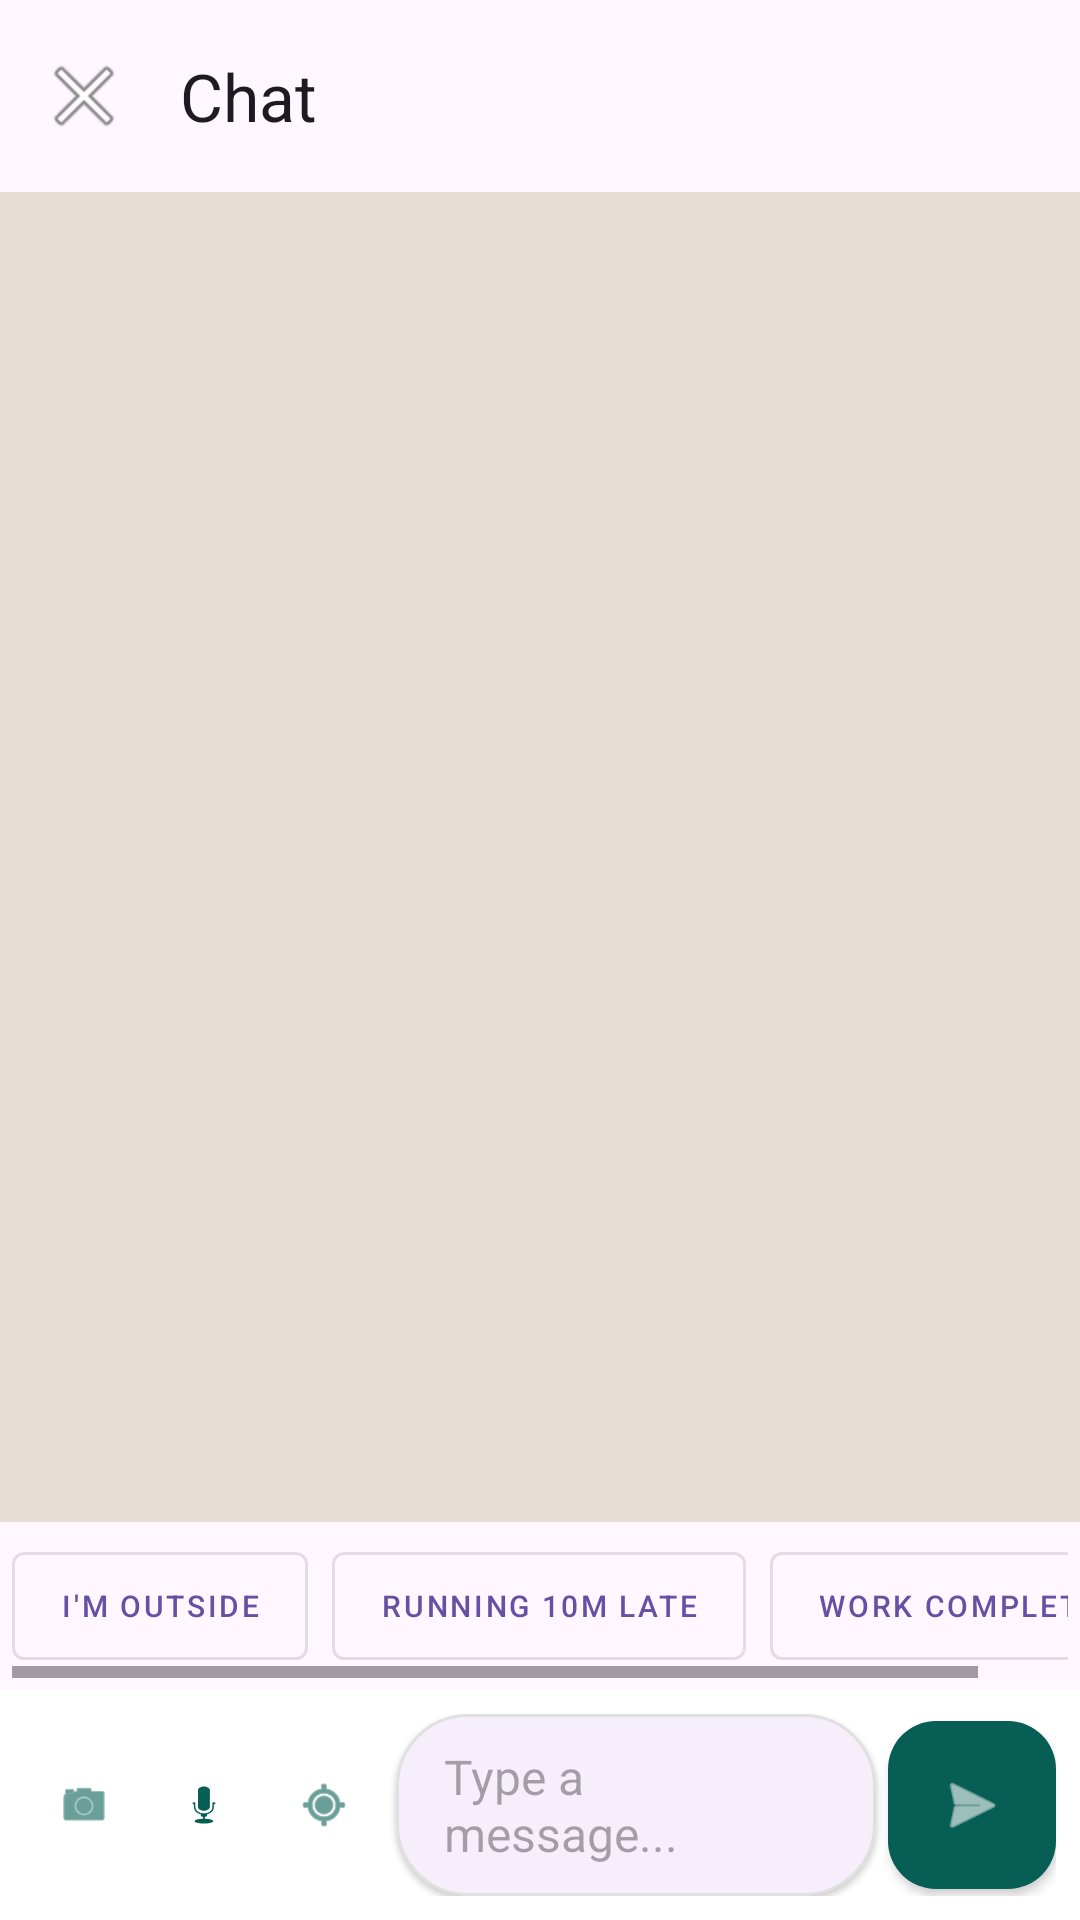

Locate icon controls on the screen. Image size 1080w x 1920h, boxes as (x1, y1, x2, y2).
camera: (63, 1787, 105, 1821)
mylocation: (302, 1783, 346, 1827)
send: (888, 1721, 1056, 1889)
speak now: (192, 1786, 216, 1824)
